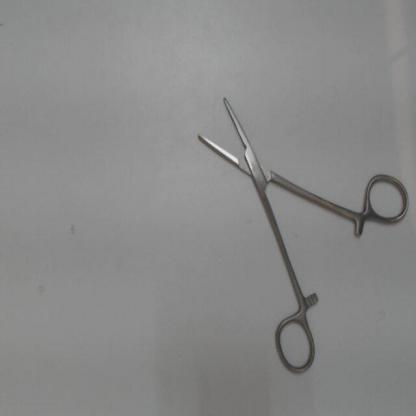Mayo Needle Holder: (188, 77, 413, 379)
